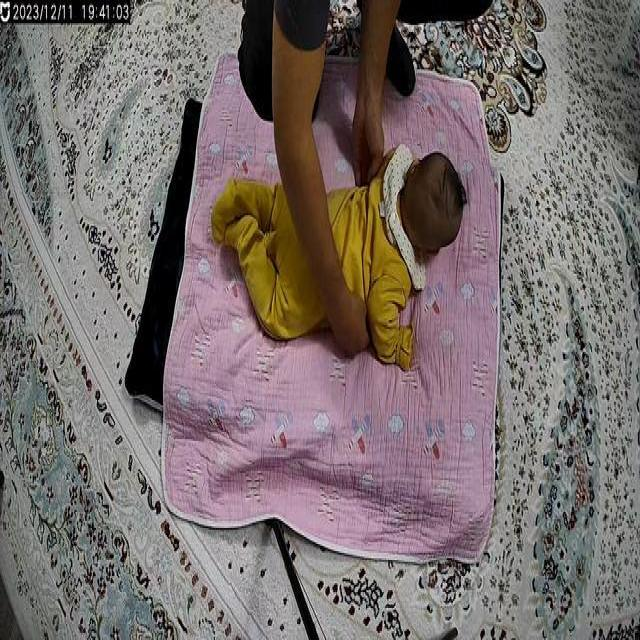baby: (210, 142, 466, 372)
